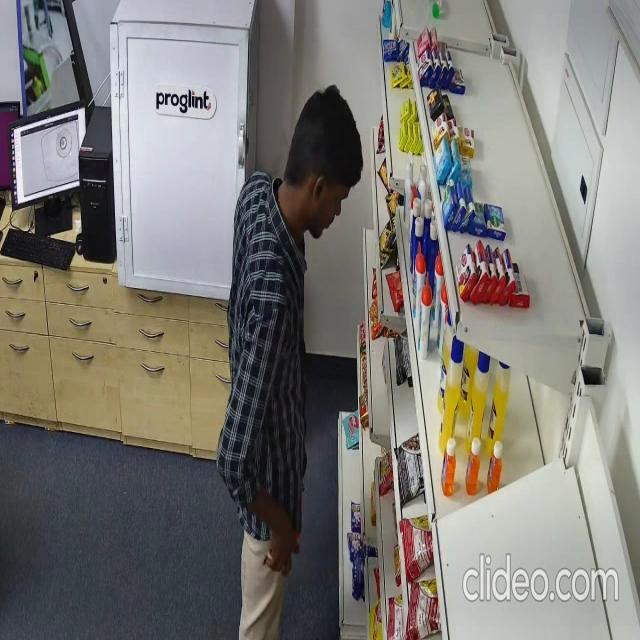Shoplifting: (220, 84, 365, 640)
